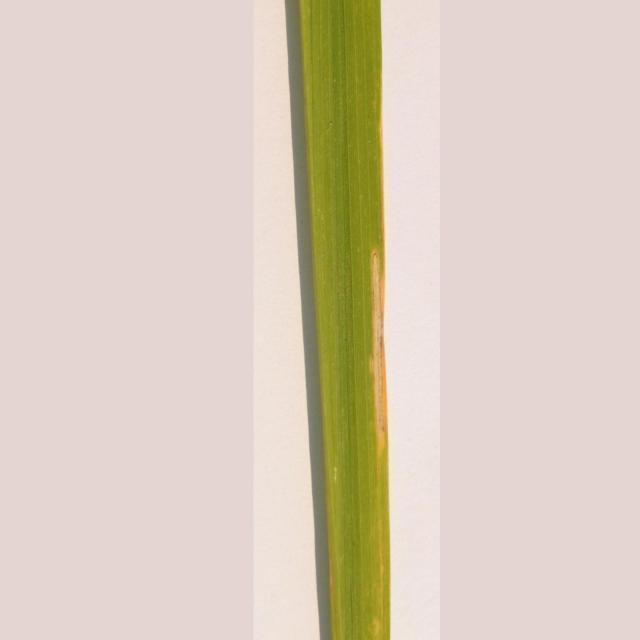Bacterial_Leaf_Blight: (325, 91, 420, 627)
